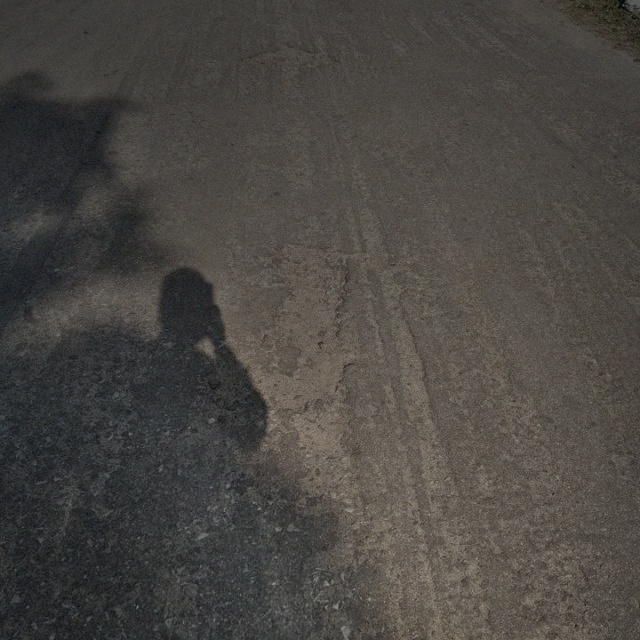pothole: (248, 239, 358, 459), (240, 42, 336, 76)
